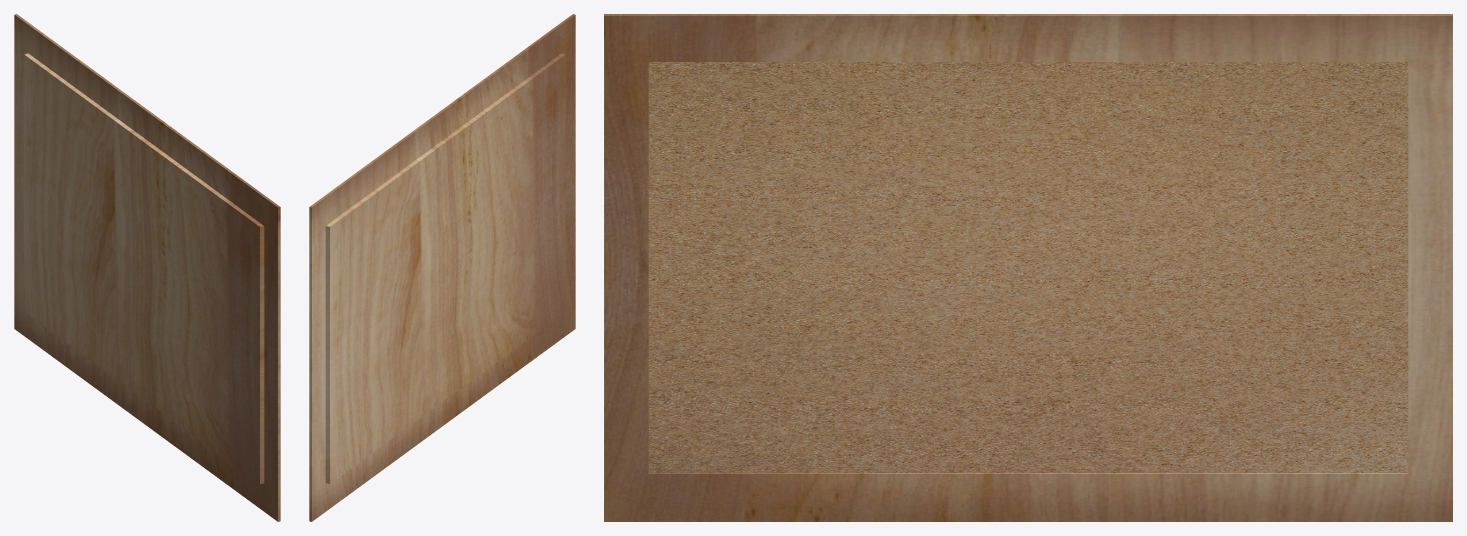
The model's file is StickerBoard.fbx.
3 renders of one model, left to right at view 1: azimuth 30°, elevation 25°; view 2: azimuth 150°, elevation 25°; view 3: azimuth 270°, elevation 25°, orthographic. The views are drawn at different scales.
Visible parts, largest first — view 1: Frame; view 2: Frame; view 3: Inner, Frame.
Boxes of the visible parts, bbox=[...] form: Frame: bbox=[14, 14, 280, 521]; Frame: bbox=[309, 14, 575, 521]; Inner: bbox=[648, 62, 1408, 473]; Frame: bbox=[604, 14, 1452, 521].
Size of the model in its own units: 11.19 by 500 by 760.
